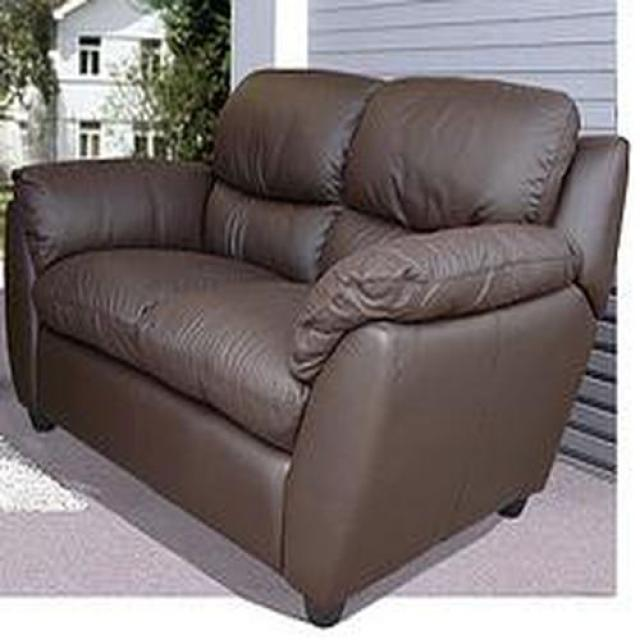sofa: (5, 68, 632, 630)
